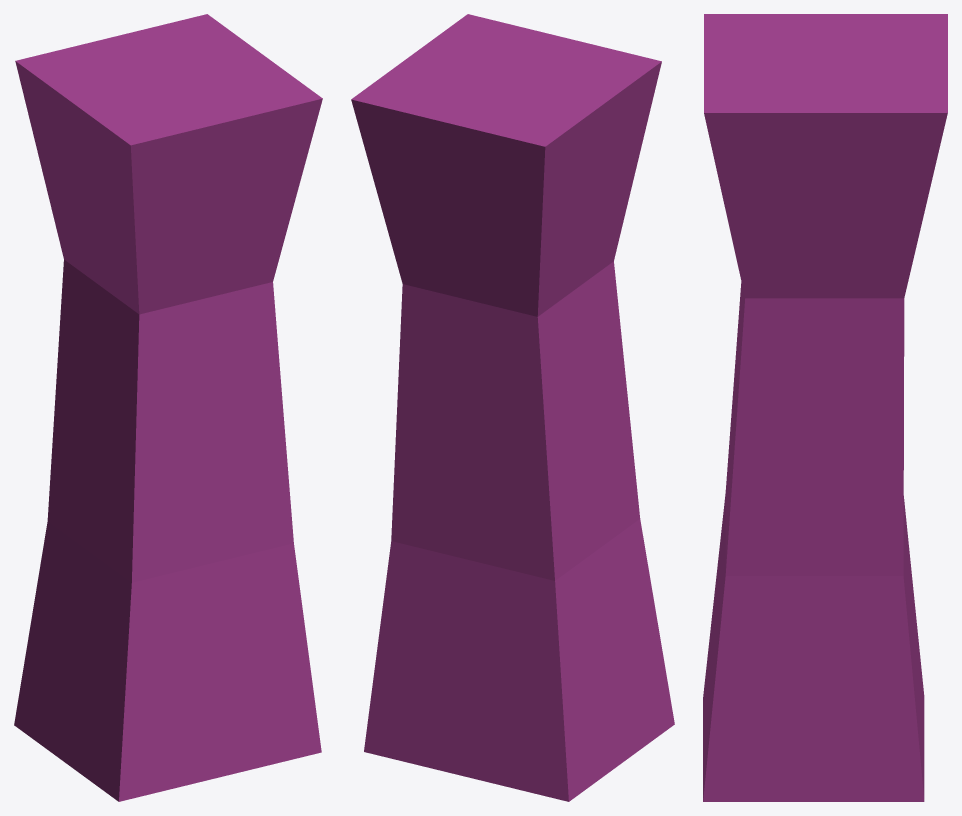
The model's file is SM_Bld_Tower_Base_02_Collision.fbx.
3 renders of one model, left to right at view 1: azimuth 30°, elevation 25°; view 2: azimuth 150°, elevation 25°; view 3: azimuth 270°, elevation 25°, orthographic. The views are drawn at different scales.
Parts seen in each view (by area): view 1: SM_Bld_Tower_Base_02_Collision; view 2: SM_Bld_Tower_Base_02_Collision; view 3: SM_Bld_Tower_Base_02_Collision.
Part boxes in pixels (x1=…): SM_Bld_Tower_Base_02_Collision: x1=14, y1=14, x2=322, y2=801; SM_Bld_Tower_Base_02_Collision: x1=351, y1=14, x2=674, y2=801; SM_Bld_Tower_Base_02_Collision: x1=703, y1=14, x2=947, y2=801.
Bounding box in the file's own units: 317 × 969 × 312.
